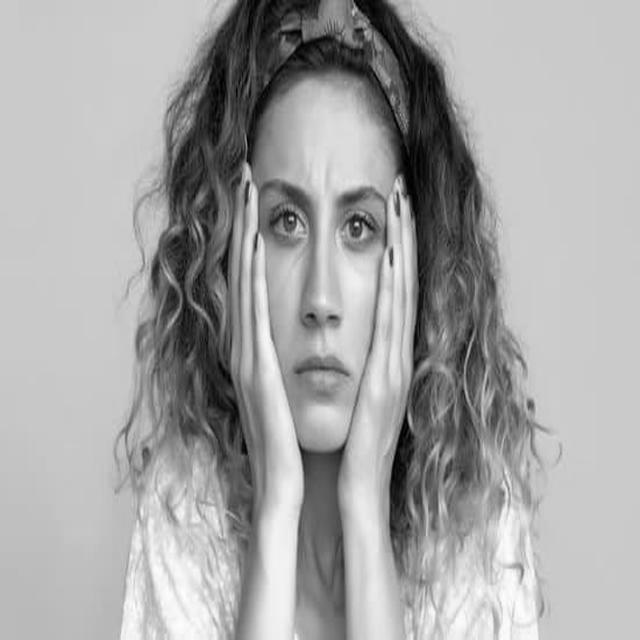Sadness: (248, 75, 394, 453)
